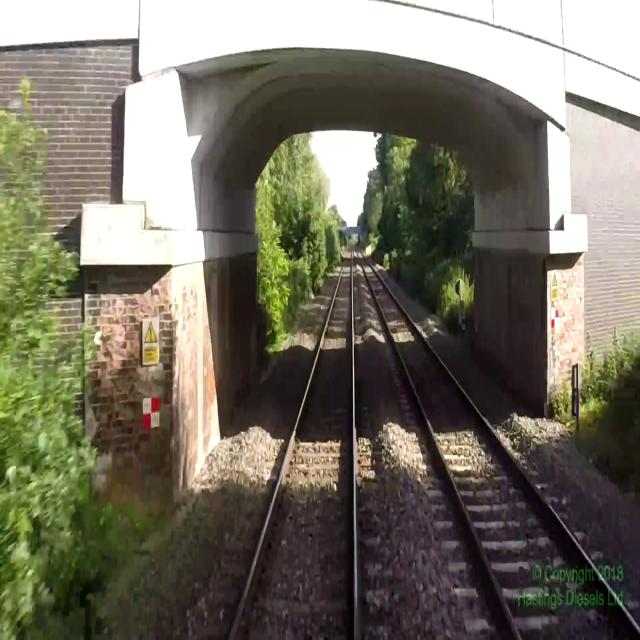rail-track: (357, 251, 640, 639), (232, 248, 353, 639)
